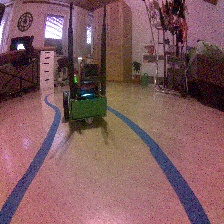rob: (61, 62, 107, 124)
